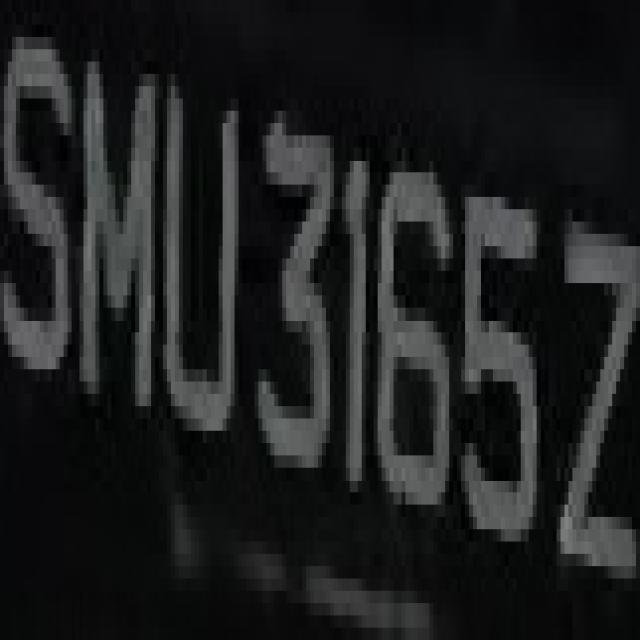1: (346, 99, 378, 578)
3: (258, 61, 334, 542)
5: (453, 123, 541, 566)
6: (370, 123, 449, 591)
M: (80, 37, 151, 431)
S: (8, 0, 72, 431)
U: (155, 49, 246, 480)
Z: (536, 160, 640, 627)
